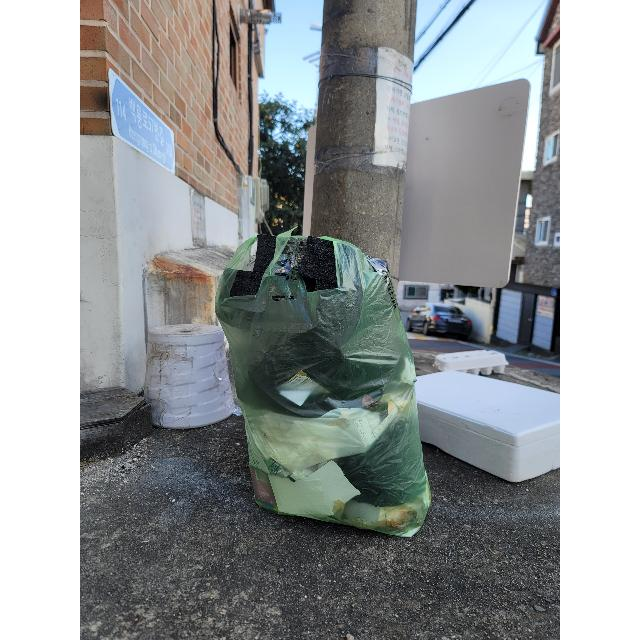general_trashbag: (215, 231, 430, 538)
